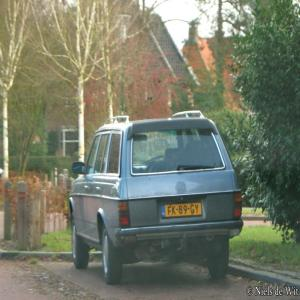Vehicle-registration-plate: (162, 203, 202, 221)
